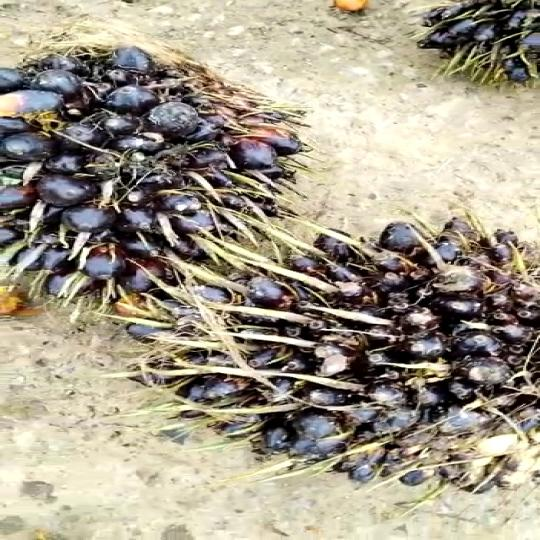mentah: (140, 218, 540, 496), (0, 38, 306, 308)
